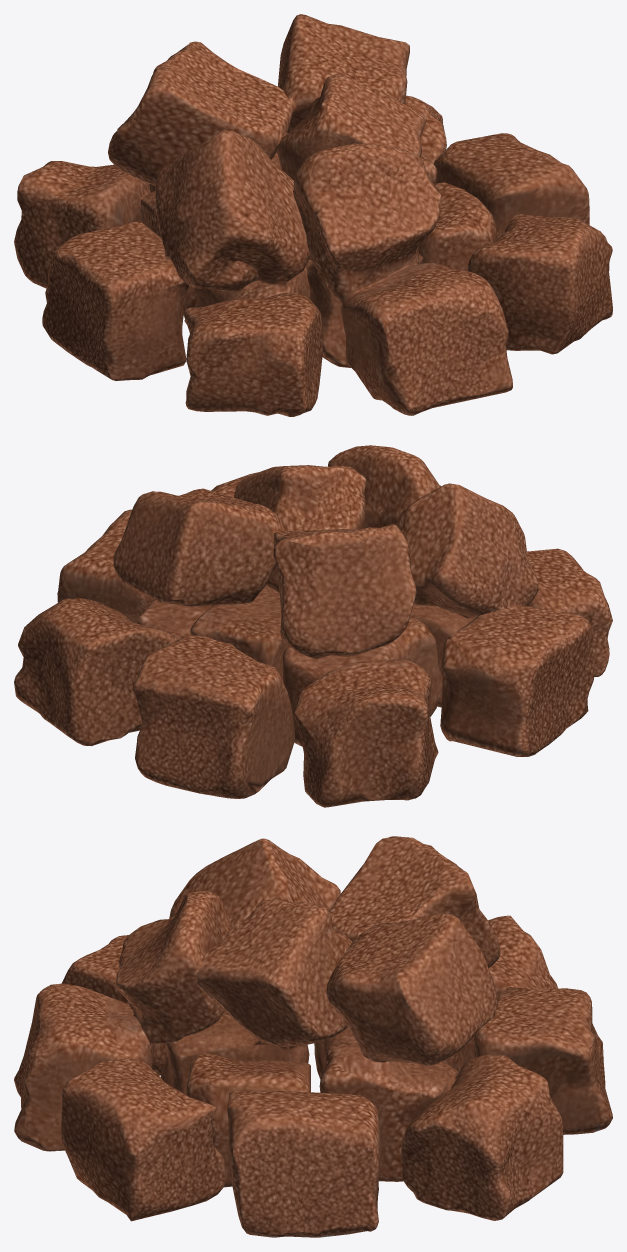
Rendered from CarneRes_Cocida.fbx.
3 renders of one model, top to bottom at view 1: azimuth 30°, elevation 25°; view 2: azimuth 150°, elevation 25°; view 3: azimuth 270°, elevation 25°, orthographic. The views are drawn at different scales.
Parts seen in each view (by area): view 1: Mesh_0; view 2: Mesh_0; view 3: Mesh_0.
Part boxes in pixels (x1,y1,x2,y2): Mesh_0: [14, 14, 612, 416]; Mesh_0: [14, 445, 612, 807]; Mesh_0: [14, 836, 612, 1237].
Size of the model in its own units: 183 by 81.81 by 190.
1 material, 1 textured.
